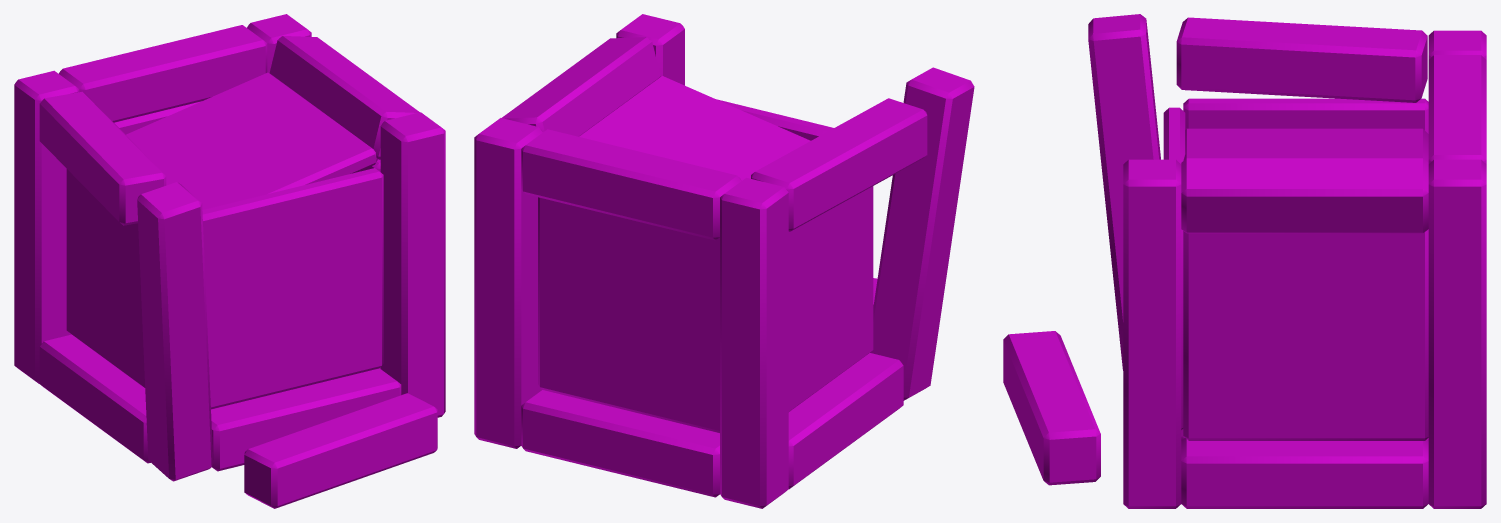
File: Destructible_State_02.fbx
3 views of the same model, side by side, from view 1: azimuth 30°, elevation 25°; view 2: azimuth 150°, elevation 25°; view 3: azimuth 270°, elevation 25° (orthographic). The views are drawn at different scales.
Visible parts, largest first — view 1: Destructible_State_2; view 2: Destructible_State_2; view 3: Destructible_State_2.
Part boxes in pixels (<box>): Destructible_State_2: <box>14,14,445,508</box>; Destructible_State_2: <box>474,14,974,508</box>; Destructible_State_2: <box>1003,14,1486,508</box>.
Bounding box in the file's own units: 402 × 369 × 482.
